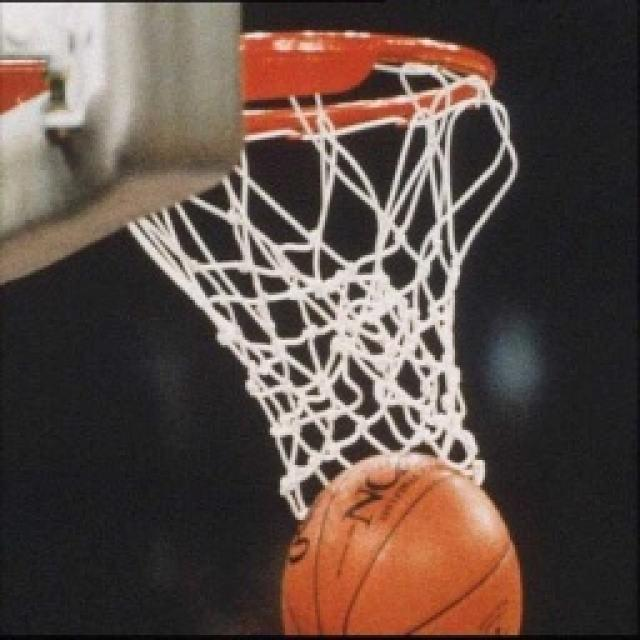rim: (267, 445, 537, 640)
